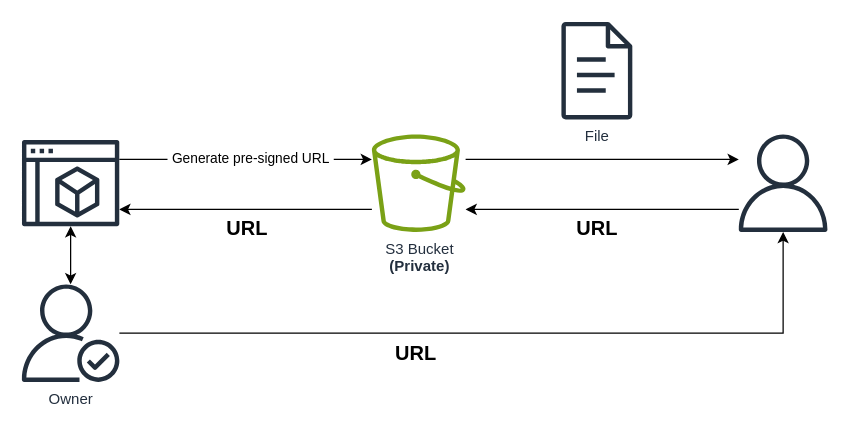
This 853x429 diagram has some shape labels left out. Here are the shapes that lost their labels. From the top down, the centre of each, then its label:
At (70,182): "AWS Console".
At (782,182): "User".
